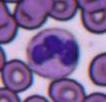N: (27, 26, 81, 79)
